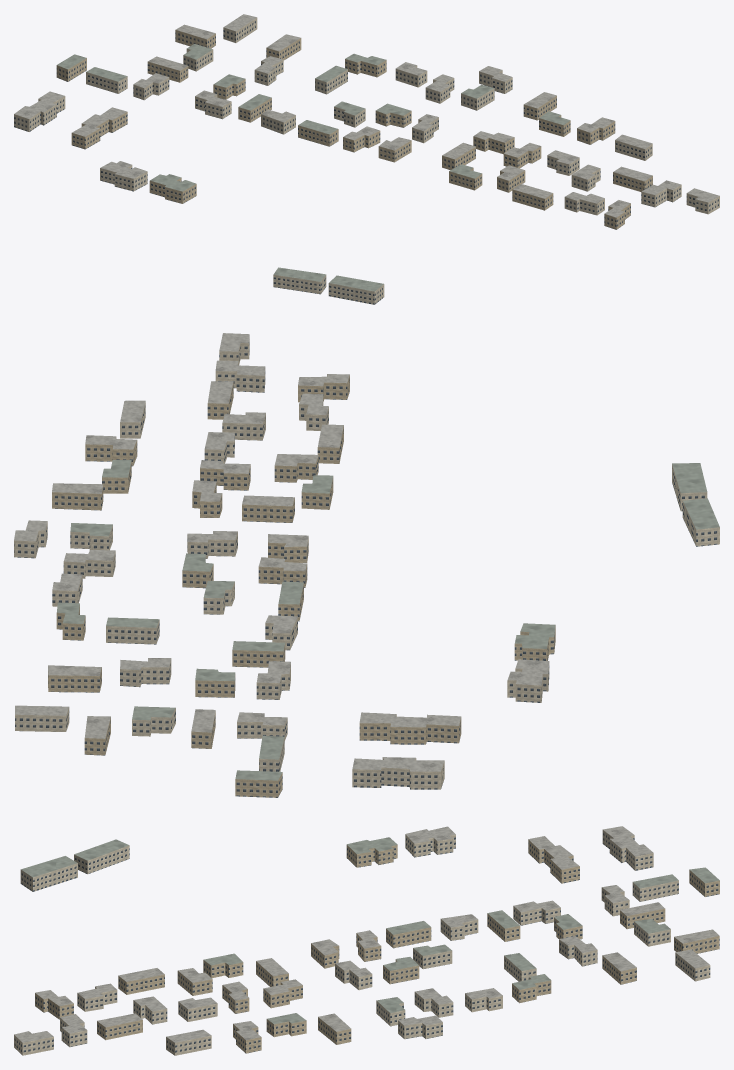
Rendered from ArahaTown_Block_E03072_N04096.gltf.
3 views of the same model, one above another, from view 1: azimuth 30°, elevation 25°; view 2: azimuth 150°, elevation 25°; view 3: azimuth 270°, elevation 25° (orthographic). The views are drawn at different scales.
Visible parts, largest first — view 1: ArahaTown_Block_E03072_N04096; view 2: ArahaTown_Block_E03072_N04096; view 3: ArahaTown_Block_E03072_N04096.
Boxes of the visible parts, bbox=[...] form: ArahaTown_Block_E03072_N04096: bbox=[14, 14, 719, 304]; ArahaTown_Block_E03072_N04096: bbox=[14, 333, 719, 797]; ArahaTown_Block_E03072_N04096: bbox=[14, 826, 719, 1055].
Size of the model in its own units: 314 by 18.79 by 403.
4 materials, 4 textured.
